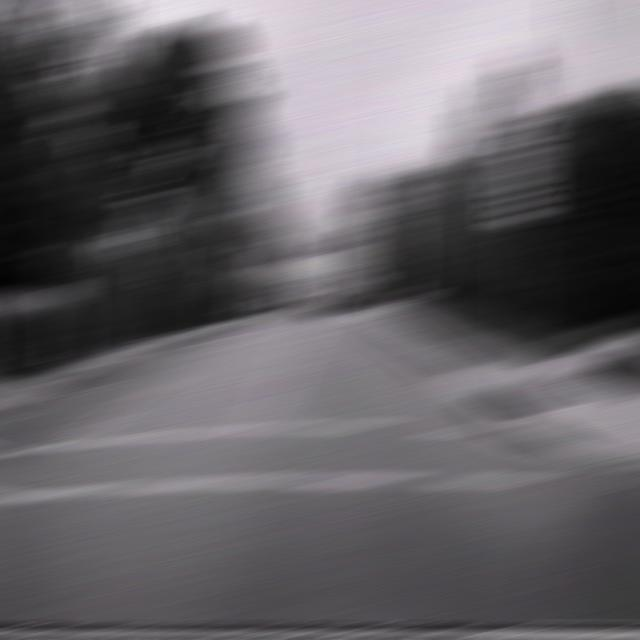noLeftTurn: (380, 190, 416, 215)
pedestrianCrossing: (487, 41, 549, 118)
speedLimit25: (493, 149, 546, 224)
